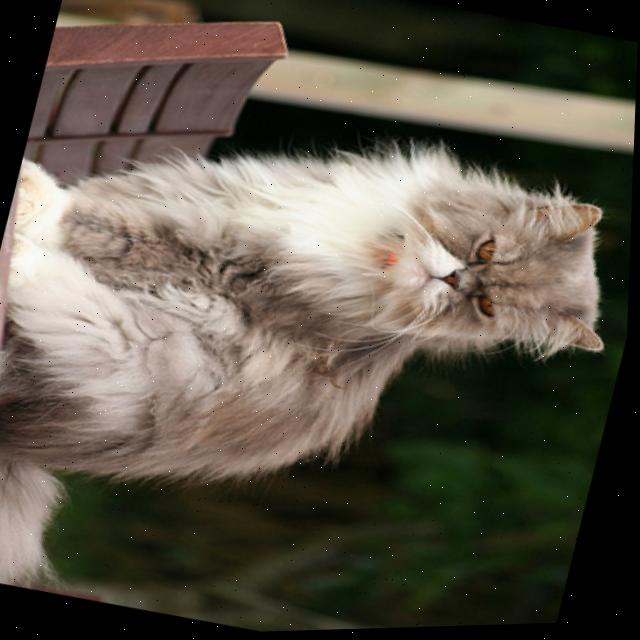Persian: (0, 57, 638, 640)
